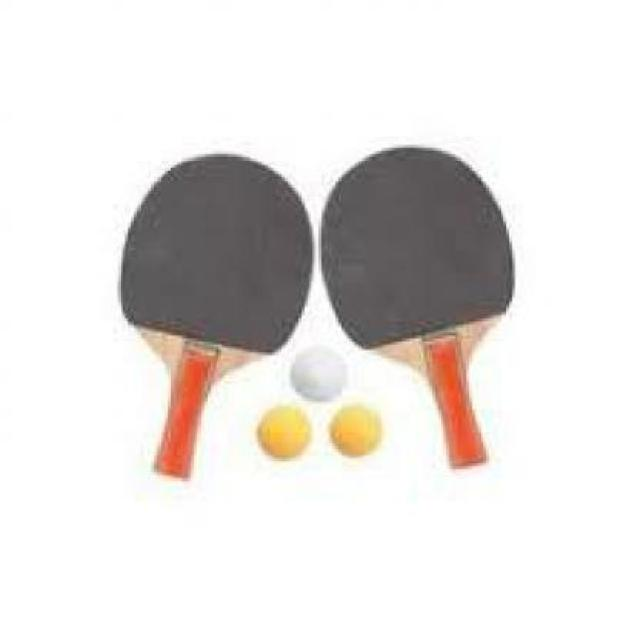table_tennis_racket: (320, 138, 518, 370), (115, 152, 319, 373)
